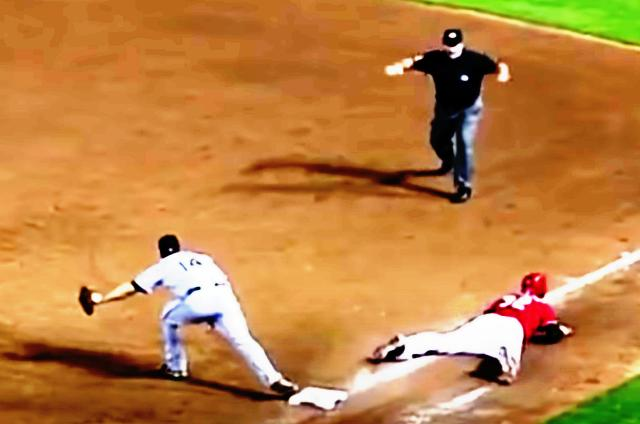jatuh: (368, 262, 580, 386)
